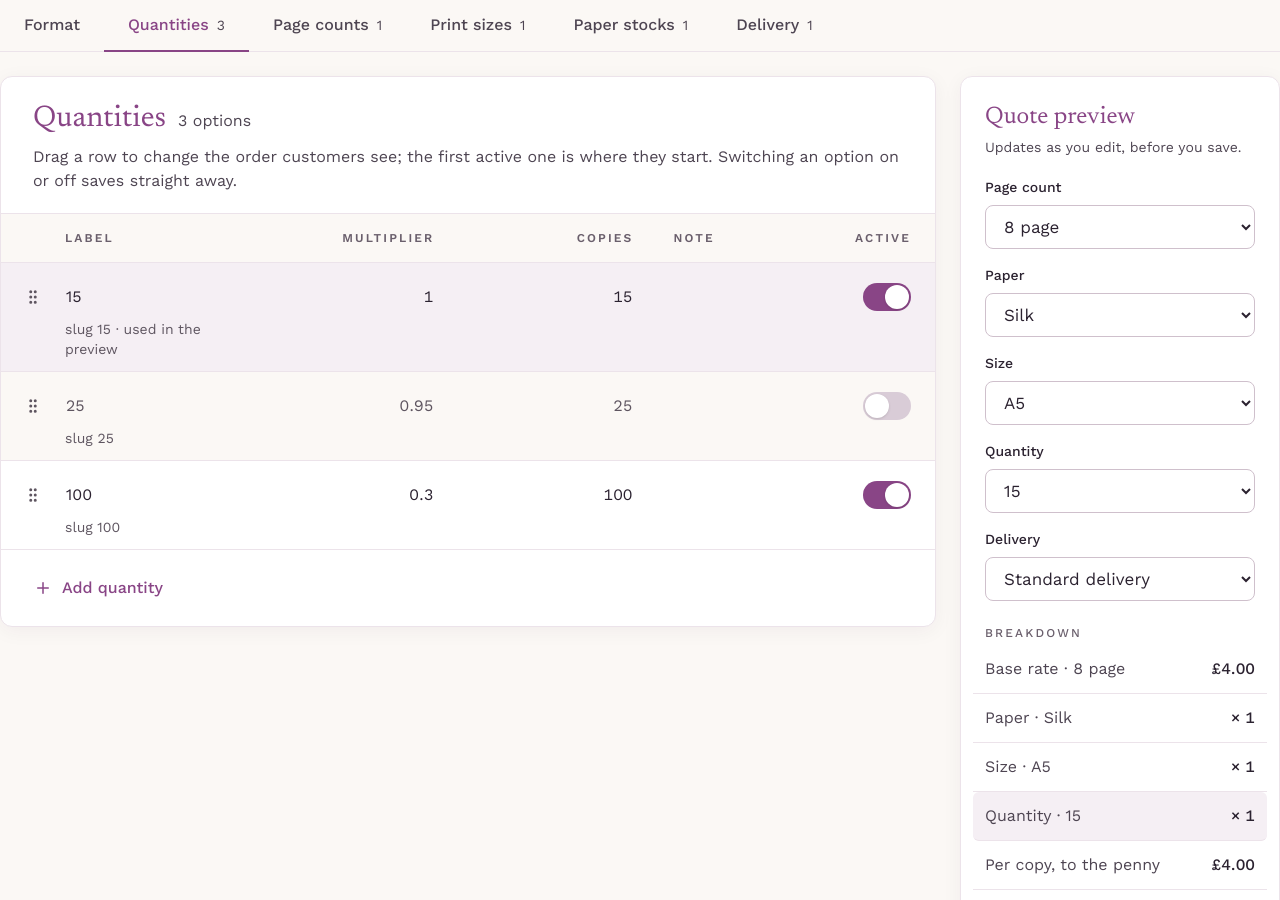
Test: AdminPricingEditor › keeps a table's edits when moving to another, marking it unsaved
The image size is (1280, 900).
Replace the text in the field named "Multiplier for 15" with "0.5": (348, 297) top-left (251, 275), bottom-right (446, 319)
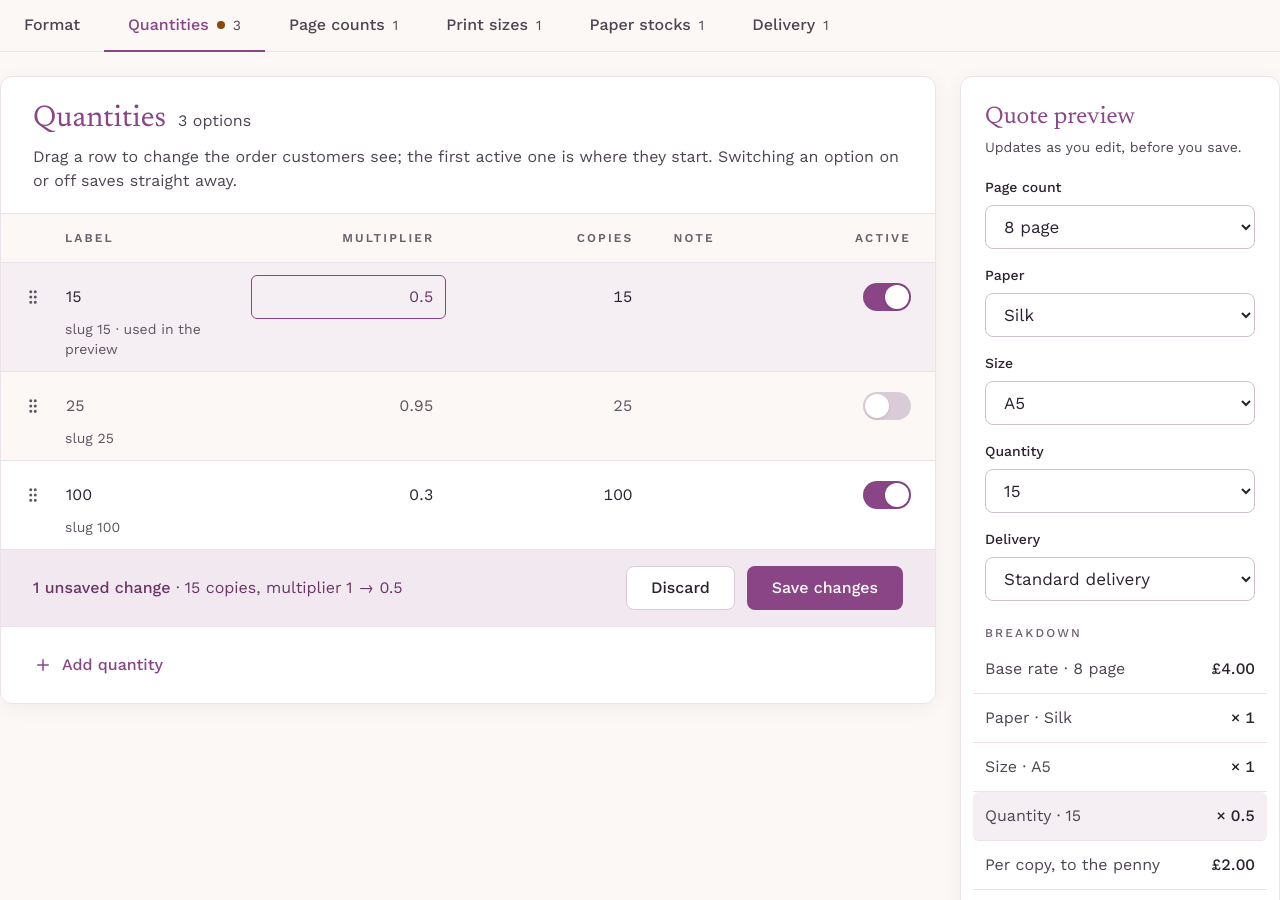
Click the button "Page counts 1": (344, 26) top-left (265, 0), bottom-right (422, 52)
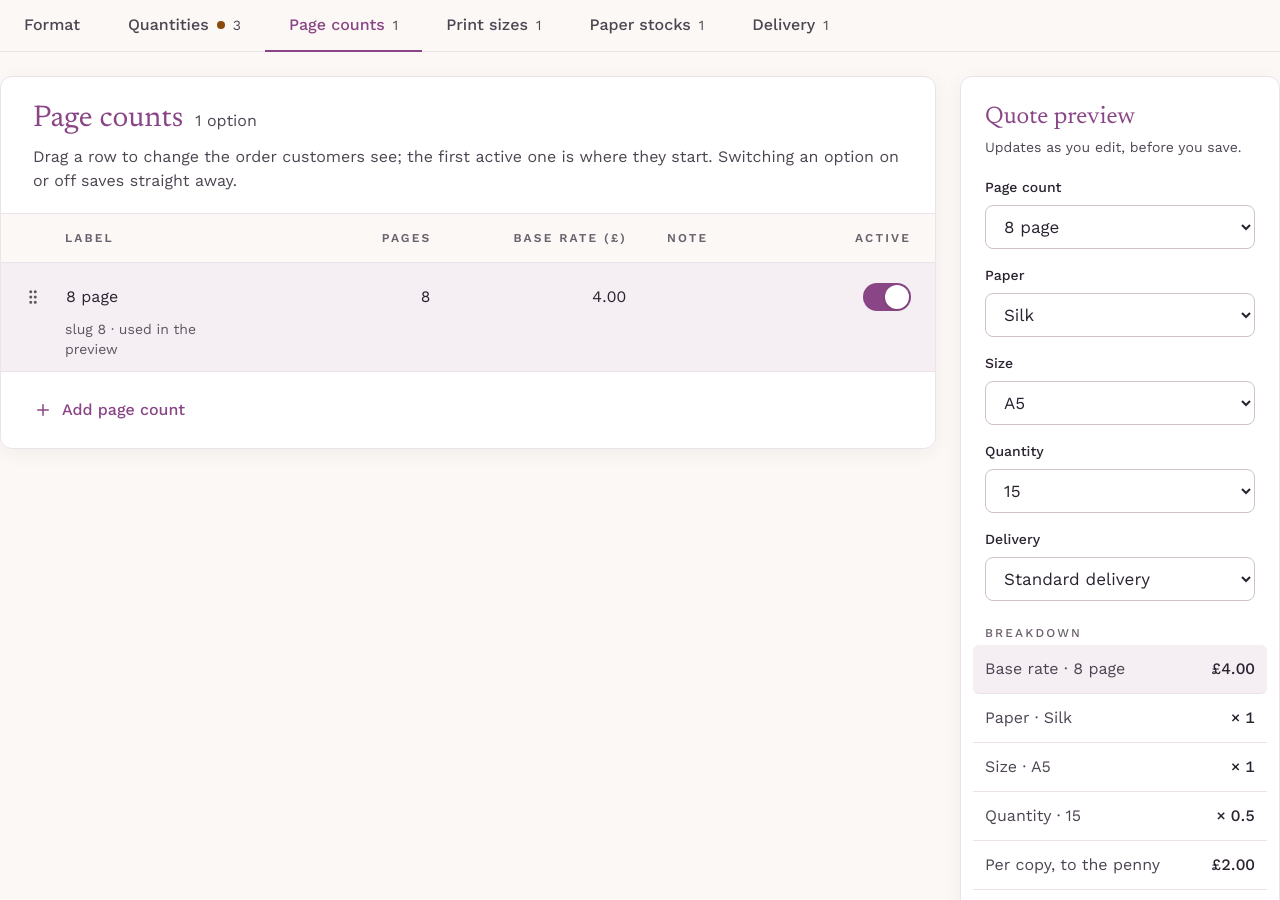
Click the button "Quantities 3": (184, 26) top-left (104, 0), bottom-right (265, 52)
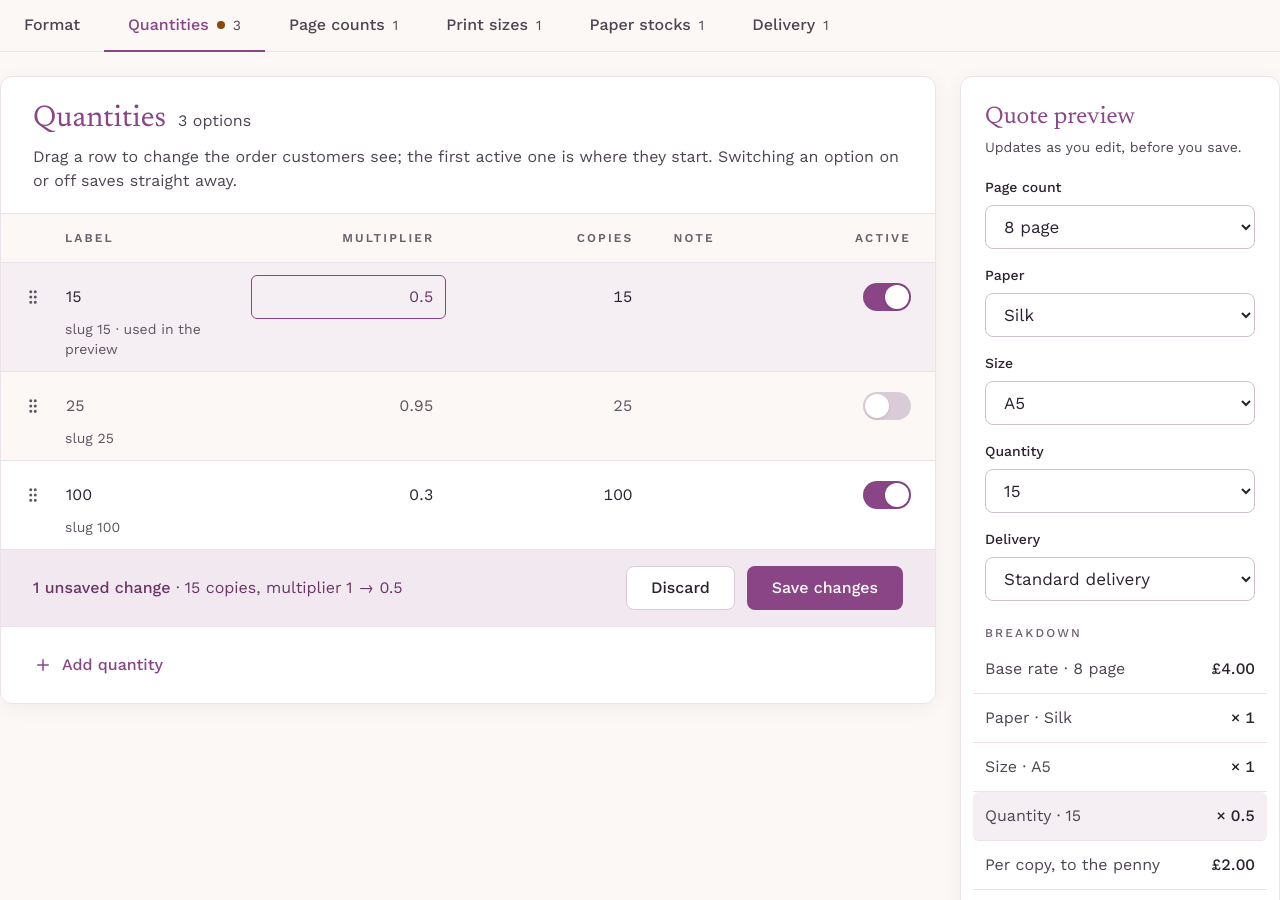
Check: the field named "Multiplier for 15" holds "0.5", box top-left (251, 275), bottom-right (446, 319)
